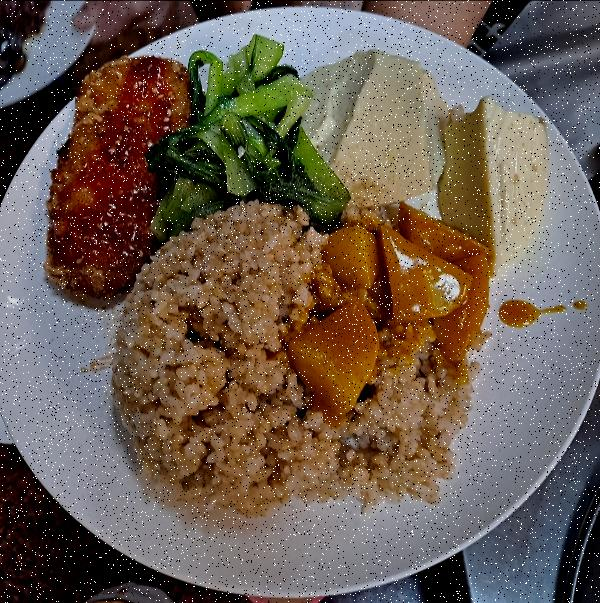brown rice: (126, 205, 316, 520)
plate: (2, 9, 594, 599)
side dish: (296, 52, 540, 236), (300, 212, 497, 406), (164, 38, 316, 226)
sweet and spicy chicken steak: (33, 50, 193, 299)
